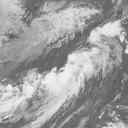cyclone: (58, 60, 94, 95)
